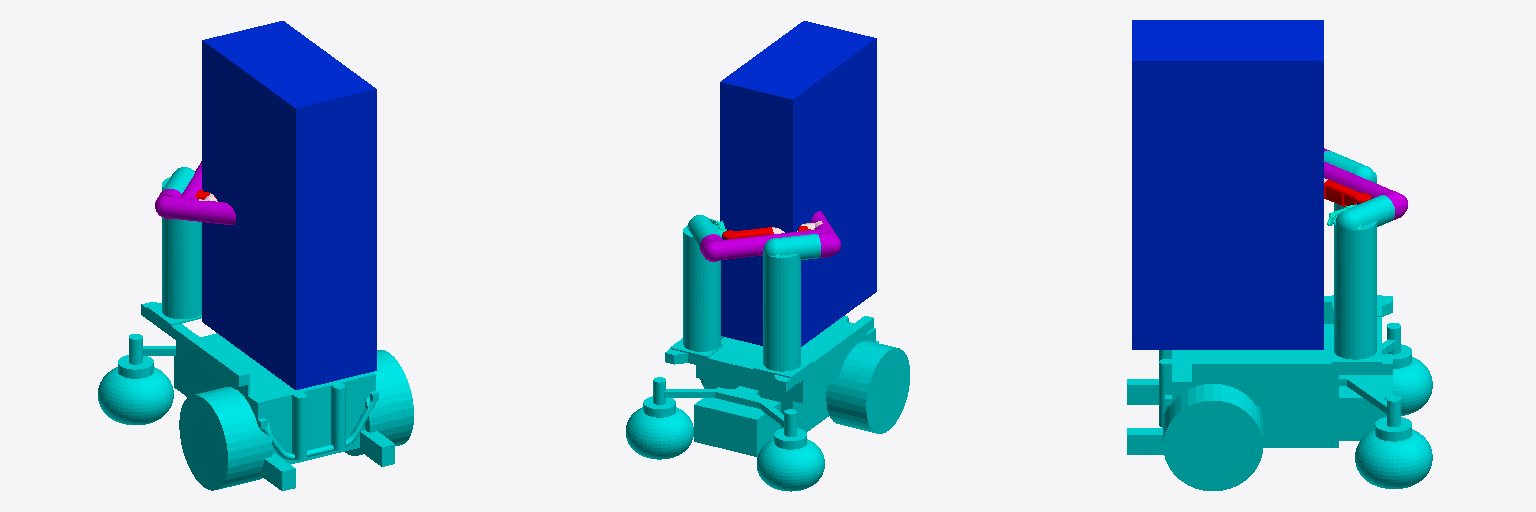
URDF robot description (mara):
<robot name="mara">
	<link name="base_link">
		<visual>
			<origin xyz="0 0 0" rpy="0 0 0"/>
			<geometry>
				<mesh filename="package://mara/models/MARA_wheeled_base.dae" scale="0.001 0.001 0.001"/>
			</geometry>
			<material name="Cyan1">
					<color rgba="0 0.9 0.9 1.0"/>
			</material>
		</visual>	
	</link>

	<link name="camera_base_link">
		<visual>
			<origin xyz="0 -0.2 0.7" rpy="0 0 0"/>
			<geometry>
				<box size="0.3 0.6 1.0"/>
			</geometry>
			<material name="Cyan2">
					<color rgba="0 0.2 0.9 1.0"/>
			</material>
		</visual>	
	</link>

	<link name="left_link1" >
		<visual>
			<origin xyz="0 0 0.224" rpy="0 0 0"/>
			<geometry>
				<mesh filename="package://mara/models/MARA_base.dae" scale="0.001 0.001 0.001"/>
			</geometry>
			<material name="Cyan1">
					<color rgba="0 0.9 0.9 1.0"/>
			</material>
		</visual>	
	</link>

	<link name="left_link2" >
		<visual>
			<origin xyz="-0.38 0 0.205" rpy="0 0 0"/>
			<geometry>
				<mesh filename="package://mara/models/MARA_arm_1.dae" scale="0.001 0.001 0.001"/>
			</geometry>
			<material name="Pink">
					<color rgba="0.8 0.0 0.9 1.0"/>
			</material>
		</visual>	
	</link>

	<link name="left_link3" >
		<visual>
			<origin xyz="-.23 0 0.0912" rpy="3.14 0 0"/>
			<geometry>
				<mesh filename="package://mara/models/MARA_arm_2.dae" scale="0.001 0.001 0.001"/>
			</geometry>
			<material name="White2">
					<color rgba="1 0.9 0.9 1.0"/>
			</material>
		</visual>	
	</link>
	<link name="left_link4" >
		<visual>
			<origin xyz="0 0 0.106" rpy="0 0 0"/>
			<geometry>
				<mesh filename="package://mara/models/MARA_wrist.dae" scale="0.001 0.001 0.001"/>
			</geometry>
			<material name="White3">
					<color rgba="1 0.0 0.0 1"/>
			</material>
		</visual>	
	</link>
	<link name="left_link5" >
		<visual>
			<origin xyz="0 0 0.01425" rpy="0 0 0"/>
			<geometry>
				<cylinder radius=".015" length=".0285"/>
			</geometry>
			<material name="Blue1">
					<color rgba="0.0 0.2 0.9 0"/>
			</material>
		</visual>	
	</link>
	<link name="left_link6" >
		<visual>
			<origin xyz="0 0 .025" rpy="0 1.57 0"/>
			<geometry>
				<mesh filename="package://mara/models/MARA_gripper.dae" scale="0.01 0.01 0.01"/>
			</geometry>
			<material name="Blue2">
					<color rgba="0.0 1 0.9 0"/>
			</material>
		</visual>	
	</link>
	

	<joint name="left_joint1" type="continuous">
		<parent link="base_link"/>
		<child link="left_link1"/>
		<origin xyz="-0.165 0.2 0.206" rpy="0 0 0.785"/>
                <axis xyz="0 0 1" />
		<limit effort="30" velocity="0.6" lower="-3.14" upper="3.14" />
	</joint>

	<joint name="left_joint2" type="continuous">
		<parent link="left_link1"/>
		<child link="left_link2"/>
		<origin xyz="0.2 0.0 0.446" rpy="1.57 0 0"/>
                <axis xyz="1 0 0" />
		<limit effort="30" velocity="0.6" lower="-3.14" upper="3.14" />
	</joint>

	<joint name="left_joint3" type="continuous">
		<parent link="left_link2"/>
		<child link="left_link3"/>
		<origin xyz="-0.08 0 0.41" rpy="3.14 0 0"/>
                <axis xyz="1 0 0" />
		<limit effort="30" velocity="0.6" lower="-3.14" upper="3.14" />
	</joint>

	<joint name="left_joint4" type="continuous">
		<parent link="left_link3"/>
		<child link="left_link4"/>
		<origin xyz="-0.226 0.0 0.152" rpy="0 0 1.57"/>
                <axis xyz="0 0 1" />
		<limit effort="30" velocity="0.6" lower="-3.14" upper="-0.9" />
	</joint>

	<joint name="left_joint5" type="revolute">
		<parent link="left_link4"/>
		<child link="left_link5"/>
		<origin xyz="0 0.0 0.183" rpy="-3.14 0 1.57"/>
                <axis xyz="0 1 0" />
        	<limit effort="30" velocity="0.6" lower="-3.14" upper="-0.9" />
	</joint>

	<joint name="left_joint6" type="continuous">
		<parent link="left_link5"/>
		<child link="left_link6"/>
		<origin xyz="0 0.0 0.005" rpy="0 0 3.14"/>
                <axis xyz="0 0 1" />
		<limit effort="30" velocity="0.6" lower="-3.14" upper="3.14" />
	</joint>





	<link name="right_link1" >
		<visual>
			<origin xyz="0 0 0.224" rpy="0 0 0"/>
			<geometry>
				<mesh filename="package://mara/models/MARA_base.dae" scale="0.001 0.001 0.001"/>
			</geometry>
			<material name="Cyan1">
					<color rgba="0 0.9 0.9 1.0"/>
			</material>
		</visual>	
	</link>

	<link name="right_link2" >
		<visual>
			<origin xyz="-0.38 0 0.205" rpy="0 0 0"/>
			<geometry>
				<mesh filename="package://mara/models/MARA_arm_1.dae" scale="0.001 0.001 0.001"/>
			</geometry>
			<material name="Pink">
					<color rgba="0.8 0.0 0.9 1.0"/>
			</material>
		</visual>	
	</link>

	<link name="right_link3" >
		<visual>
			<origin xyz="-.23 0 0.0912" rpy="3.14 0 0"/>
			<geometry>
				<mesh filename="package://mara/models/MARA_arm_2.dae" scale="0.001 0.001 0.001"/>
			</geometry>
			<material name="White2">
					<color rgba="1 0.9 0.9 1.0"/>
			</material>
		</visual>	
	</link>
	<link name="right_link4" >
		<visual>
			<origin xyz="0 0 0.106" rpy="0 0 0"/>
			<geometry>
				<mesh filename="package://mara/models/MARA_wrist.dae" scale="0.001 0.001 0.001"/>
			</geometry>
			<material name="White3">
					<color rgba="1 0.0 0.0 1"/>
			</material>
		</visual>	
	</link>
	<link name="right_link5" >
		<visual>
			<origin xyz="0 0 0.01425" rpy="0 0 0"/>
			<geometry>
				<cylinder radius=".015" length=".0285"/>
			</geometry>
			<material name="Blue1">
					<color rgba="0.0 0.2 0.9 0"/>
			</material>
		</visual>	
	</link>
	<link name="right_link6" >
		<visual>
			<origin xyz="0 0 .025" rpy="0 1.57 0"/>
			<geometry>
				<mesh filename="package://mara/models/MARA_gripper.dae" scale="0.01 0.01 0.01"/>
			</geometry>
			<material name="Blue2">
					<color rgba="0.0 1 0.9 0"/>
			</material>
		</visual>	
	</link>

	<joint name="right_joint1" type="continuous">
		<parent link="base_link"/>
		<child link="right_link1"/>
		<origin xyz="0.165 0.2 0.206" rpy="0 0 -0.785"/>
                <axis xyz="0 0 1" />
		<limit effort="30" velocity="0.6" lower="-3.14" upper="3.14" />
	</joint>

	<joint name="right_joint2" type="continuous">
		<parent link="right_link1"/>
		<child link="right_link2"/>
		<origin xyz="0.2 0.0 0.446" rpy="1.57 0 0"/>
                <axis xyz="1 0 0" />
		<limit effort="30" velocity="0.6" lower="-3.14" upper="3.14" />
	</joint>

	<joint name="right_joint3" type="continuous">
		<parent link="right_link2"/>
		<child link="right_link3"/>
		<origin xyz="-0.08 0 0.41" rpy="3.14 0 0"/>
                <axis xyz="1 0 0" />
		<limit effort="30" velocity="0.6" lower="-3.14" upper="3.14" />
	</joint>

	<joint name="right_joint4" type="continuous">
		<parent link="right_link3"/>
		<child link="right_link4"/>
		<origin xyz="-0.226 0.0 0.152" rpy="0 0 1.57"/>
                <axis xyz="0 0 1" />
		<limit effort="30" velocity="0.6" lower="-3.14" upper="-0.9" />
	</joint>

	<joint name="right_joint5" type="revolute">
		<parent link="right_link4"/>
		<child link="right_link5"/>
		<origin xyz="0 0.0 0.183" rpy="-3.14 0 1.57"/>
                <axis xyz="0 1 0" />
        	<limit effort="30" velocity="0.6" lower="-3.14" upper="-0.9" />
	</joint>

	<joint name="right_joint6" type="continuous">
		<parent link="right_link5"/>
		<child link="right_link6"/>
		<origin xyz="0 0.0 0.005" rpy="0 0 3.14"/>
                <axis xyz="0 0 1" />
		<limit effort="30" velocity="0.6" lower="-3.14" upper="3.14" />
	</joint>


	<joint name="camera_joint"  type="fixed">
	    <origin xyz="0 0 0" rpy="0 0 0" />
	    	<axis xyz="0 0 0" />
	    <parent link="base_link"/>
	    <child link="camera_base_link"/>
	</joint>




</robot>

--- What the picture shows (computed from the rendered views, not written in the file) ---
Views: 3 orthographic renders of the robot side by side, from view 1: azimuth 30°, elevation 25°; view 2: azimuth 150°, elevation 25°; view 3: azimuth 270°, elevation 25°.
Model mara with 14 links and 13 joints (2 revolute, 10 continuous, 1 fixed), rooted at base_link, posed all joints at 0 but 2 set to mid-range because 0 is outside their limits (left_joint5 = -2.02, right_joint5 = -2.02).
Links seen in each view (by area): view 1: camera_base_link, base_link, left_link1, left_link2; view 2: camera_base_link, base_link, left_link1, right_link1, right_link2, left_link2; view 3: camera_base_link, base_link, right_link1, right_link2, right_link4, left_link1.
Boxes of the visible links, x1=… form: camera_base_link: x1=202, y1=21, x2=376, y2=389; base_link: x1=98, y1=302, x2=413, y2=490; left_link1: x1=162, y1=167, x2=201, y2=318; left_link2: x1=155, y1=189, x2=235, y2=224; camera_base_link: x1=720, y1=21, x2=876, y2=346; base_link: x1=626, y1=316, x2=909, y2=491; left_link1: x1=763, y1=234, x2=820, y2=371; right_link1: x1=683, y1=215, x2=720, y2=351; right_link2: x1=700, y1=224, x2=827, y2=261; left_link2: x1=810, y1=211, x2=840, y2=257; camera_base_link: x1=1132, y1=20, x2=1323, y2=349; base_link: x1=1127, y1=295, x2=1432, y2=490; right_link1: x1=1334, y1=195, x2=1394, y2=359; right_link2: x1=1324, y1=162, x2=1407, y2=220; right_link4: x1=1324, y1=180, x2=1370, y2=206; left_link1: x1=1324, y1=151, x2=1376, y2=211.
Bounding box of the posed robot: 0.7844 × 0.9592 × 1.4 m (x, y, z).
11 mesh visuals loaded from 6 distinct referenced files (6 Collada DAE).
